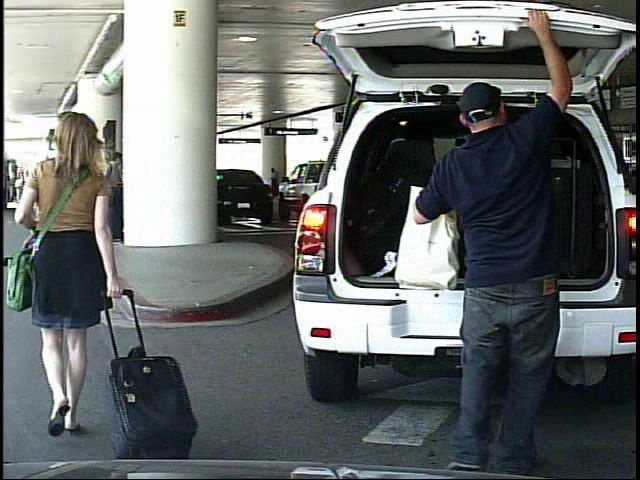person: (399, 9, 585, 480), (27, 108, 156, 441), (269, 165, 282, 199), (13, 173, 24, 201)
